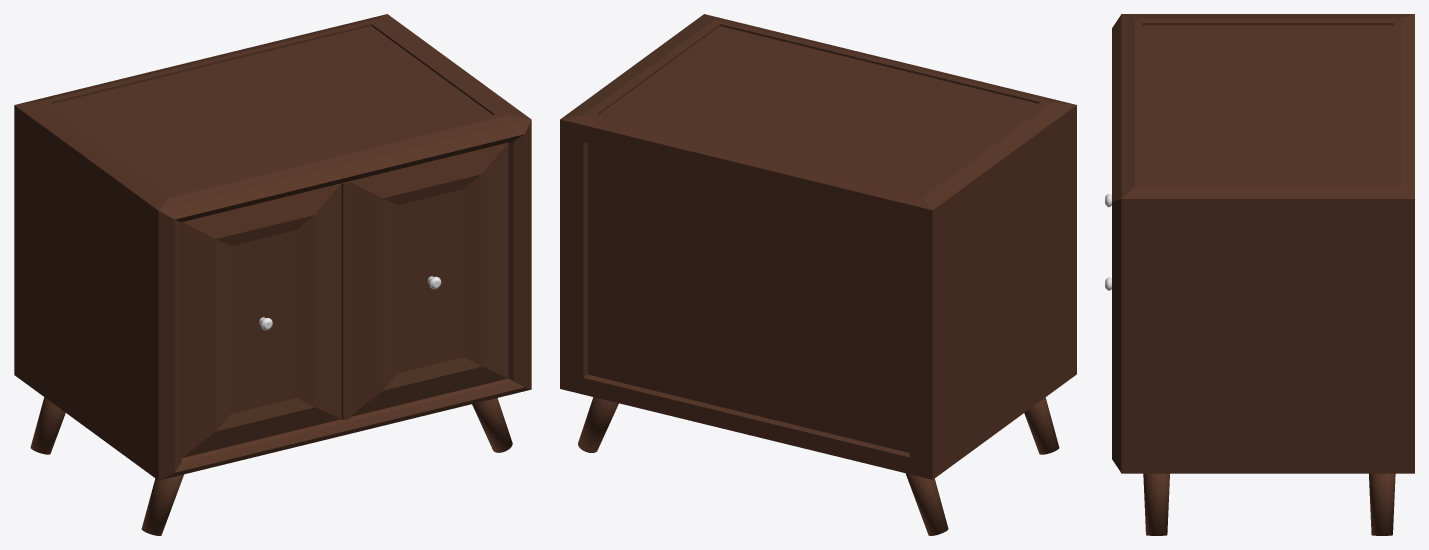
Rendered from tumbarina.fbx.
3 views of the same model, side by side, from view 1: azimuth 30°, elevation 25°; view 2: azimuth 150°, elevation 25°; view 3: azimuth 270°, elevation 25° (orthographic).
Parts seen in each view (by area): view 1: Cube.124; view 2: Cube.124; view 3: Cube.124.
Part boxes in pixels (left/top/right/bottom): Cube.124: left=14, top=14, right=531, bottom=535; Cube.124: left=560, top=14, right=1076, bottom=535; Cube.124: left=1105, top=14, right=1414, bottom=535.
Bounding box in the file's own units: 184 × 162 × 130.
